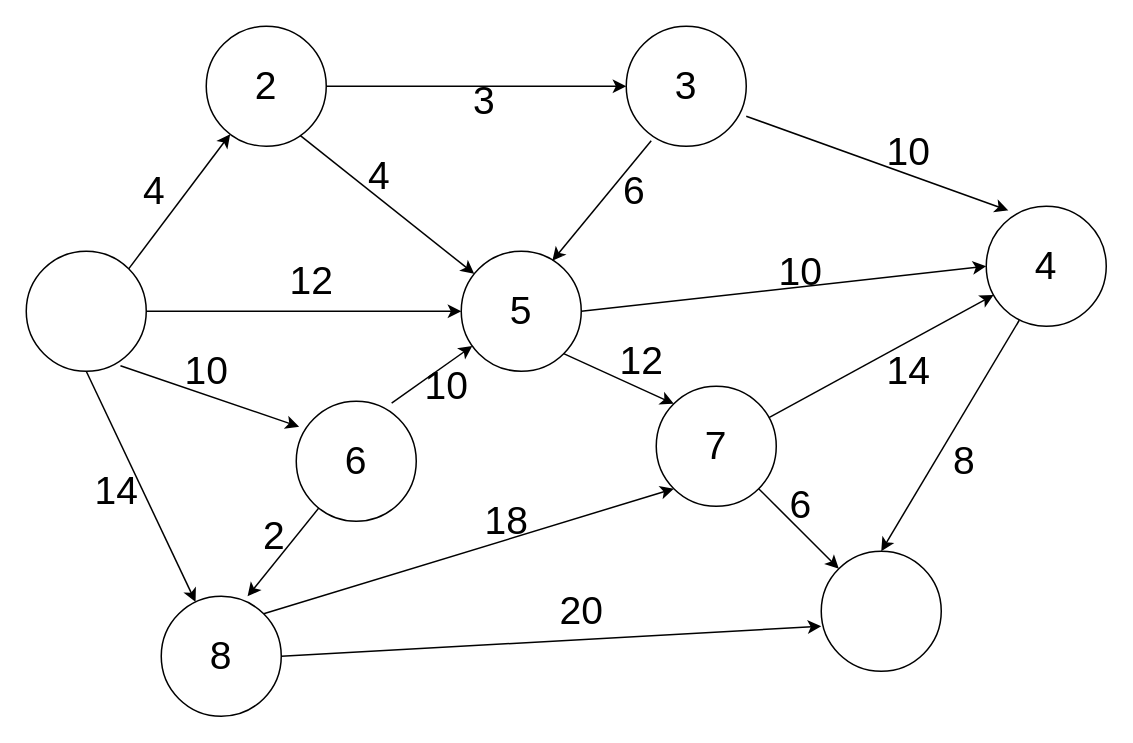
This 1133x743 diagram has some shape labels left out. Each missing label, with the centre of its shape:
1 A: the point at 85,310
9 B: the point at 880,610
